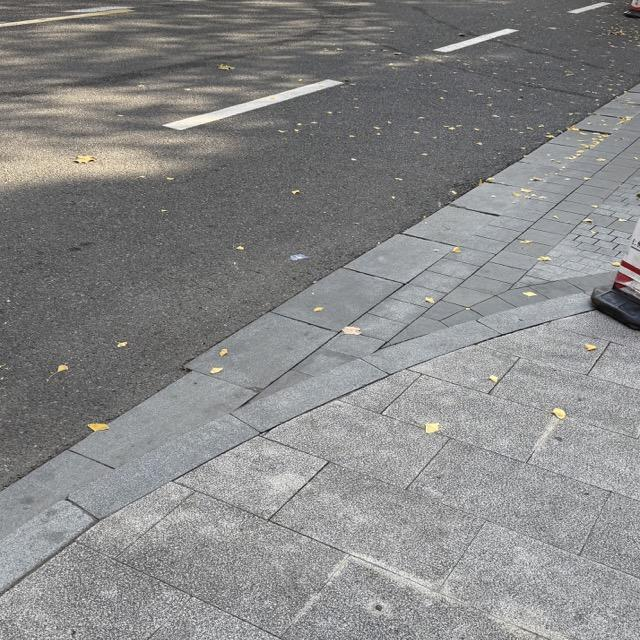curb: (0, 294, 584, 591)
